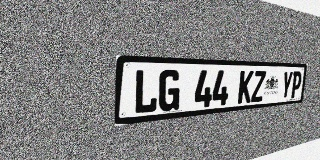4: (194, 70, 214, 108), (212, 70, 230, 106)
G: (158, 70, 181, 112)
K: (237, 71, 254, 104)
L: (133, 69, 159, 114)
P: (290, 71, 302, 98)
Y: (280, 71, 293, 99)
Z: (251, 71, 266, 102)
